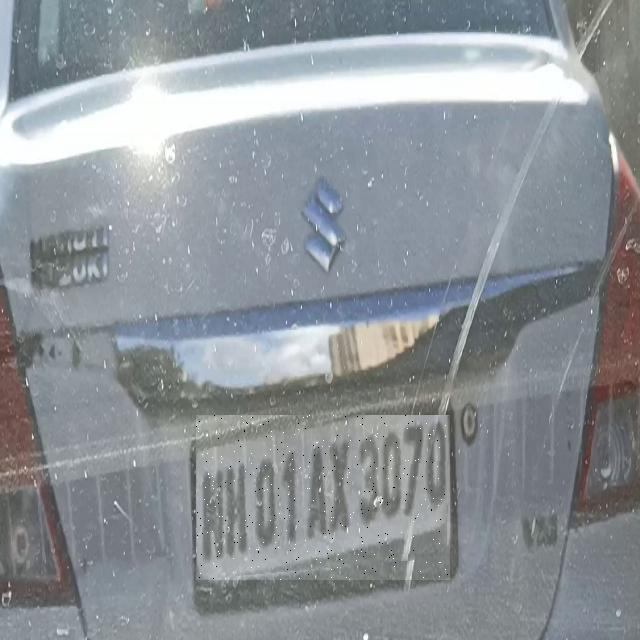Plate: (197, 416, 451, 581)
